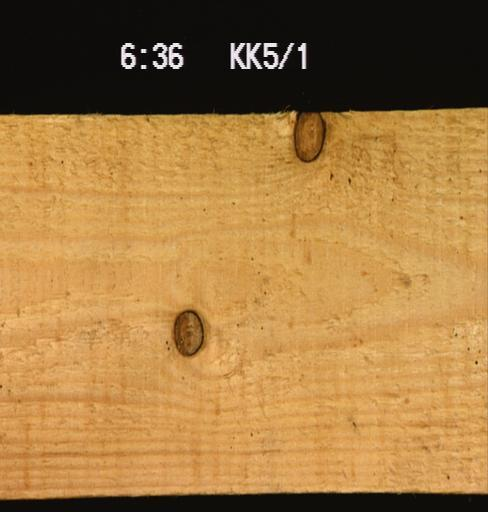dry_knot: (172, 309, 204, 357)
edge_knot: (290, 110, 326, 162)
